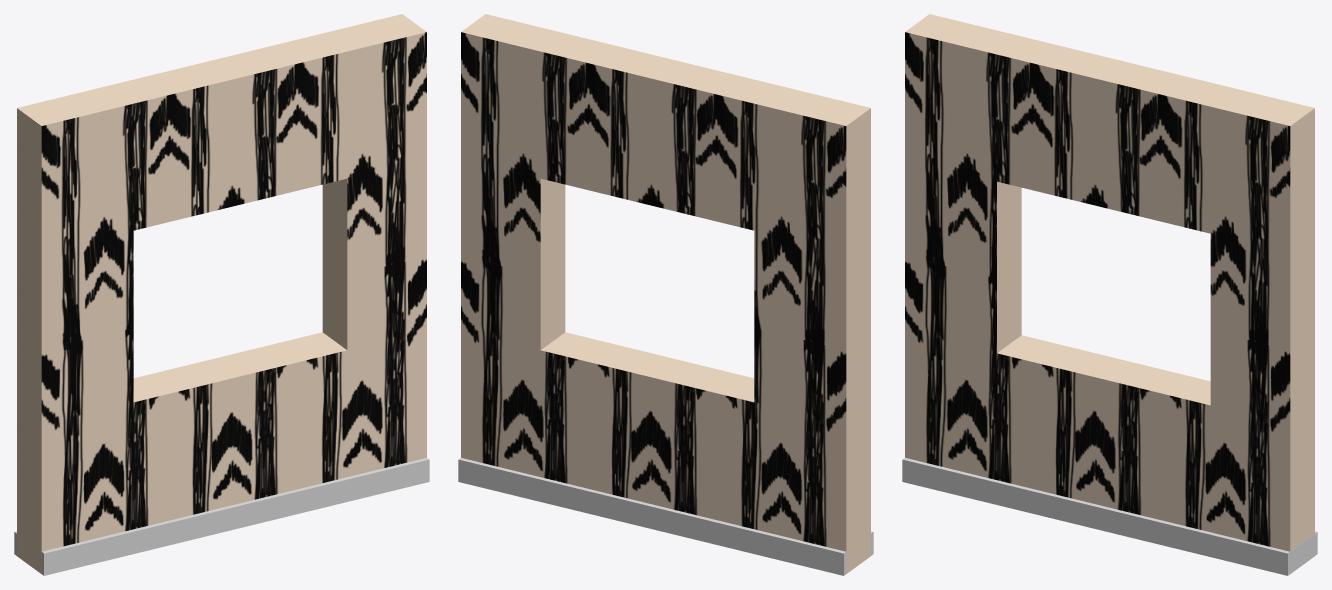
File: ventana.fbx
3 renders of one model, left to right at view 1: azimuth 30°, elevation 25°; view 2: azimuth 150°, elevation 25°; view 3: azimuth 330°, elevation 25°, orthographic.
Visible parts, largest first — view 1: ventana.001, paredx.003; view 2: ventana.001, paredx.003; view 3: ventana.001, paredx.003.
Boxes of the visible parts, bbox=[...] form: ventana.001: bbox=[17, 14, 426, 573]; paredx.003: bbox=[14, 458, 429, 575]; ventana.001: bbox=[461, 14, 870, 573]; paredx.003: bbox=[458, 458, 873, 575]; ventana.001: bbox=[905, 14, 1314, 551]; paredx.003: bbox=[902, 458, 1317, 575].
Size of the model in its own units: 270 by 300 by 36.05.
